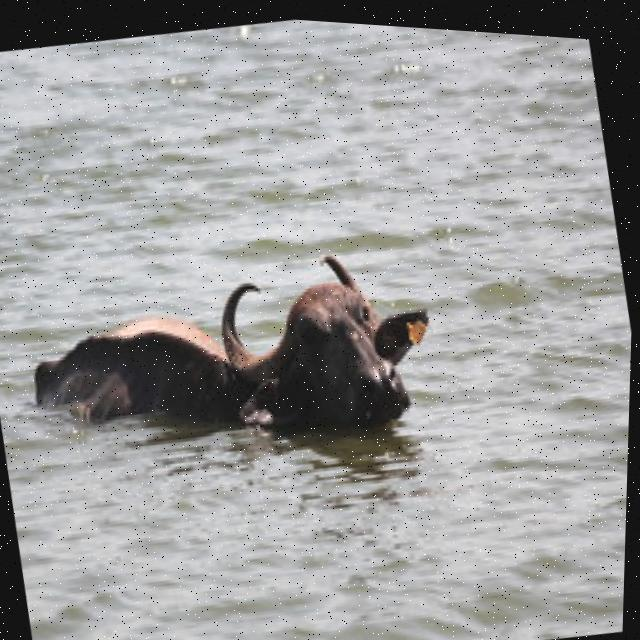Buffalo: (9, 214, 450, 496)
